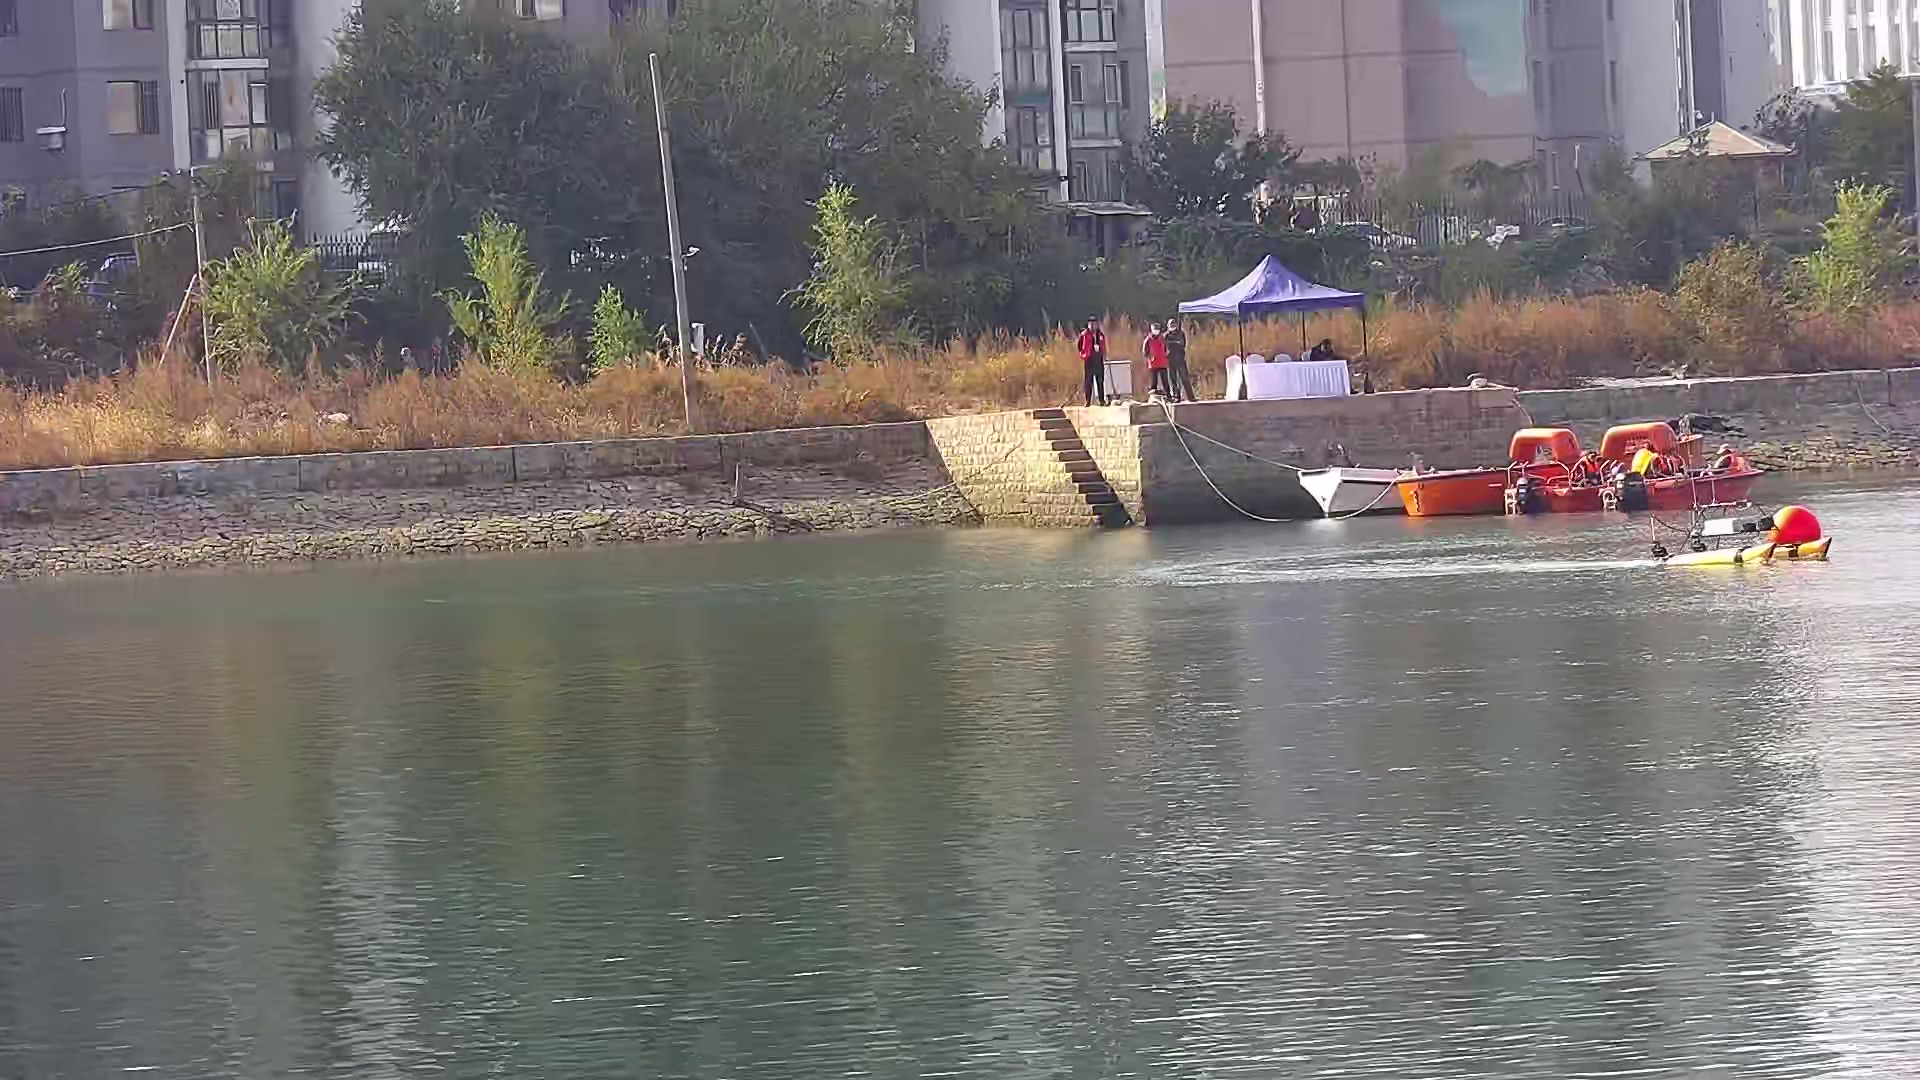ball: (1762, 502, 1826, 549)
boat: (1510, 427, 1758, 508), (1404, 429, 1600, 513), (1644, 498, 1830, 574), (1296, 462, 1412, 518)
